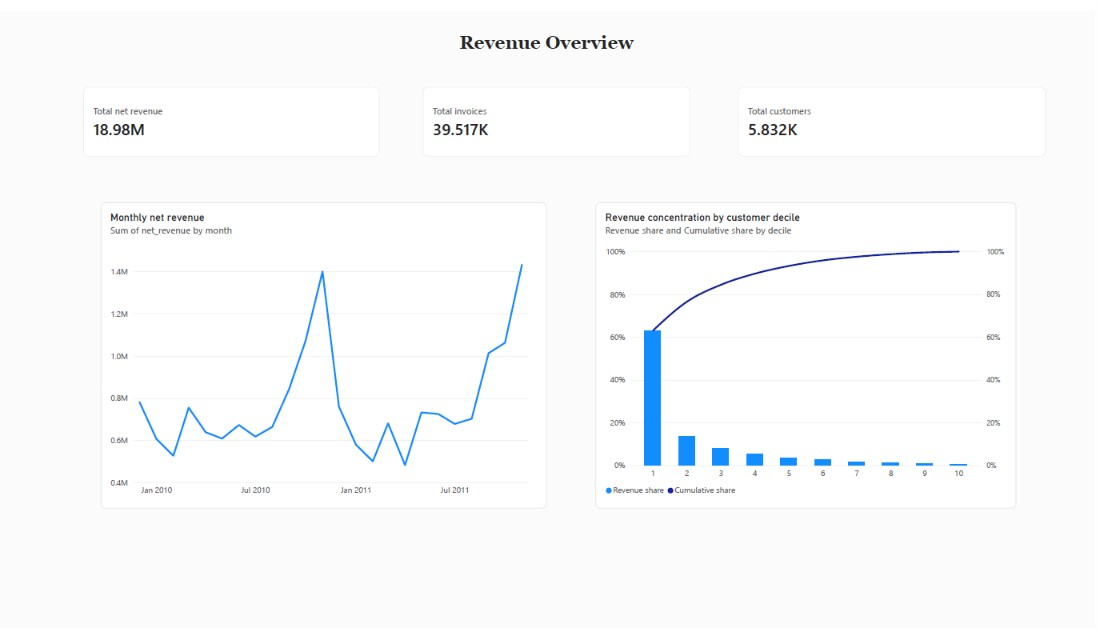

This screenshot's page, from the dashboard's own definition file:
{"tool":"powerbi","page":{"name":"Revenue overview","canvas":[1920,1080],"ordinal":0},"visuals":[{"type":"lineChart","title":"Monthly net revenue","fields":{"Category":["monthly_revenue.month"],"Y":["Sum(monthly_revenue.net_revenue)"]},"box":[179.2,335.4,781.2,535.4],"z":0},{"type":"lineClusteredColumnComboChart","title":"Revenue concentration by customer decile","fields":{"Category":["revenue_concentration.decile"],"Y":["revenue_concentration.Revenue share"],"Y2":["revenue_concentration.Cumulative share"]},"box":[1045.8,335.4,737.5,535.4],"z":1000},{"type":"cardVisual","fields":{"Data":["monthly_revenue.Total net revenue"]},"box":[149,132.7,518.3,121.7],"z":2000},{"type":"cardVisual","fields":{"Data":["monthly_revenue.Total invoices"]},"box":[744,132.7,468.3,121.7],"z":3000},{"type":"cardVisual","fields":{"Data":["customers_segments.Total customers"]},"box":[1295.7,132.7,538.3,121.7],"z":4000},{"type":"textbox","box":[0,36.7,1920,45],"z":5000}]}

Visuals, with their boxes in screenshot pixels (x1, y1, x2, y2), scaled from the page's 1920x1080 canvas onto the 1098x632 screenshot:
"Monthly net revenue" lineChart: left=102, top=196, right=549, bottom=510
"Revenue concentration by customer decile" lineClusteredColumnComboChart: left=598, top=196, right=1020, bottom=510
cardVisual - monthly_revenue.Total net revenue: left=85, top=78, right=382, bottom=149
cardVisual - monthly_revenue.Total invoices: left=425, top=78, right=693, bottom=149
cardVisual - customers_segments.Total customers: left=741, top=78, right=1049, bottom=149
textbox: left=0, top=21, right=1097, bottom=48
